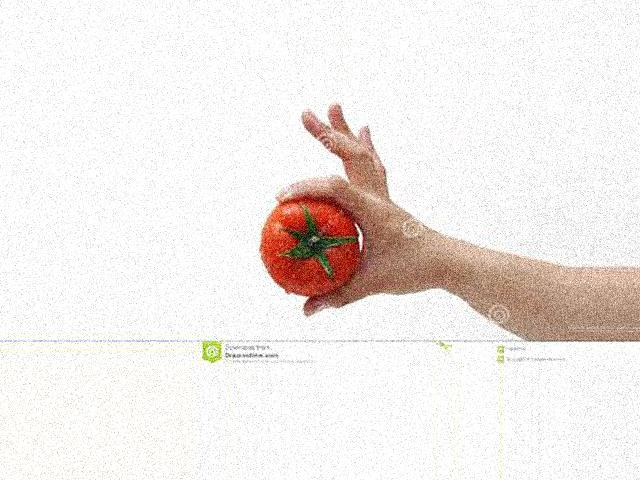tomato: (260, 196, 360, 296)
